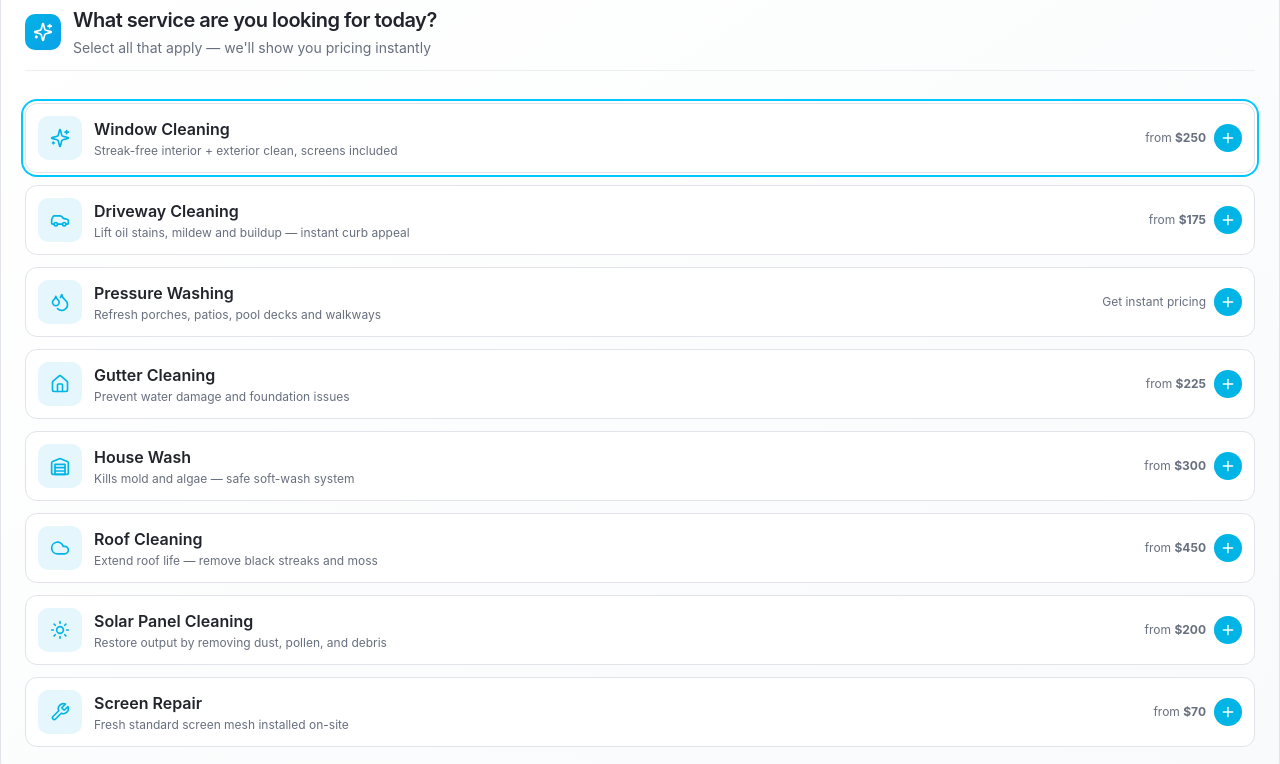
Test: IntentFirstServiceSelector quote hierarchy › keeps keyboard semantics, preserves prior selections, and focuses the newest service
Later steps or results of the test are not shown.
Click the button with aria-label "Add Window Cleaning". click: (60, 138)
box: top-left (25, 103), bottom-right (1255, 173)
(page scrolled)
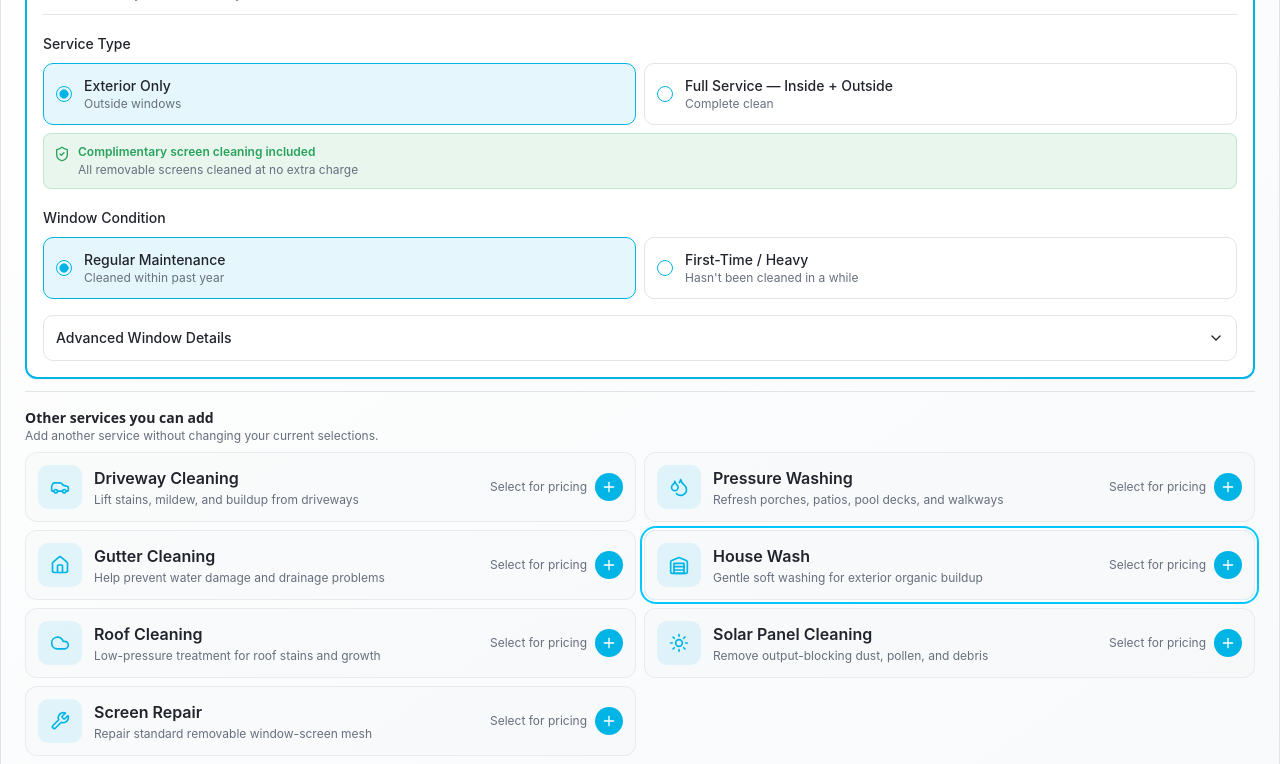
Click the button with aria-label "Add House Wash". click: (679, 565)
box: top-left (644, 530), bottom-right (1255, 600)
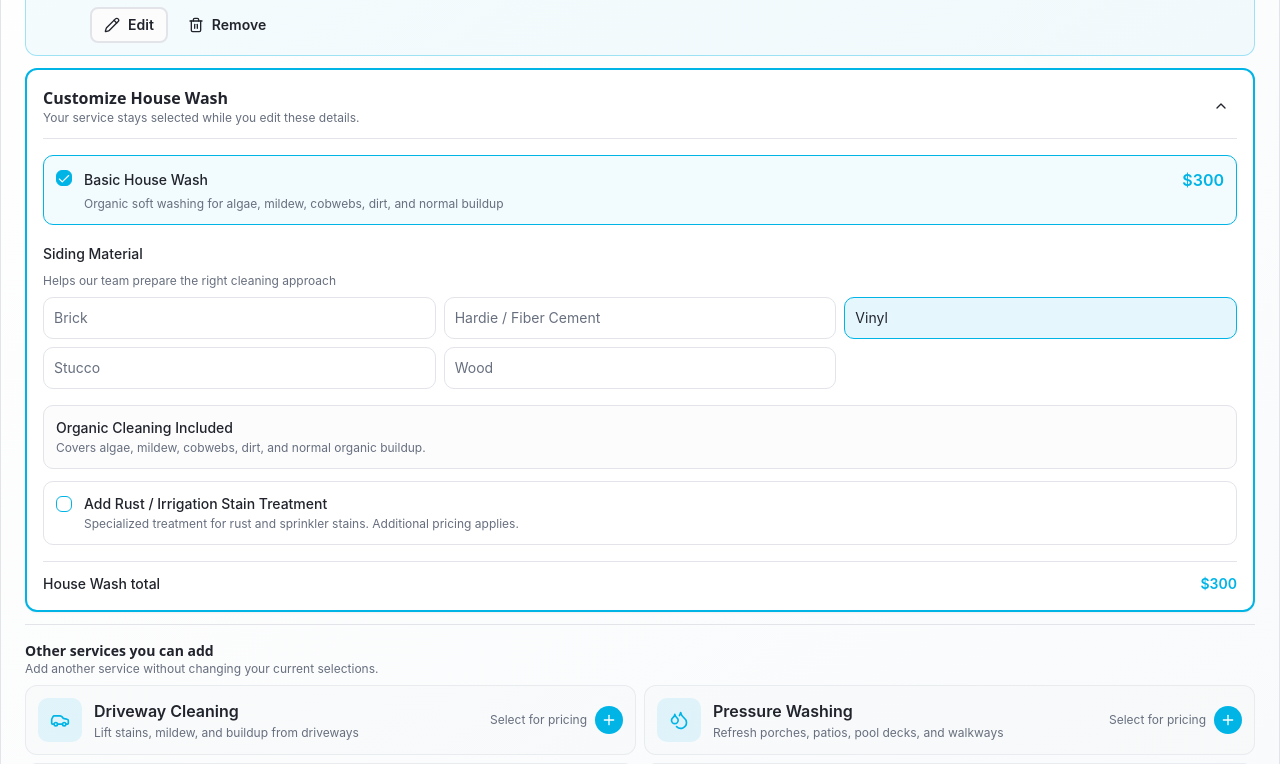
Expected: the button with aria-label "Edit House Wash" is shown
Expected: the element with test id "service-editor-houseWash" is shown
Click the button with aria-label "Edit House Wash". click: (129, 25)
box: top-left (90, 7), bottom-right (168, 43)
(page scrolled)
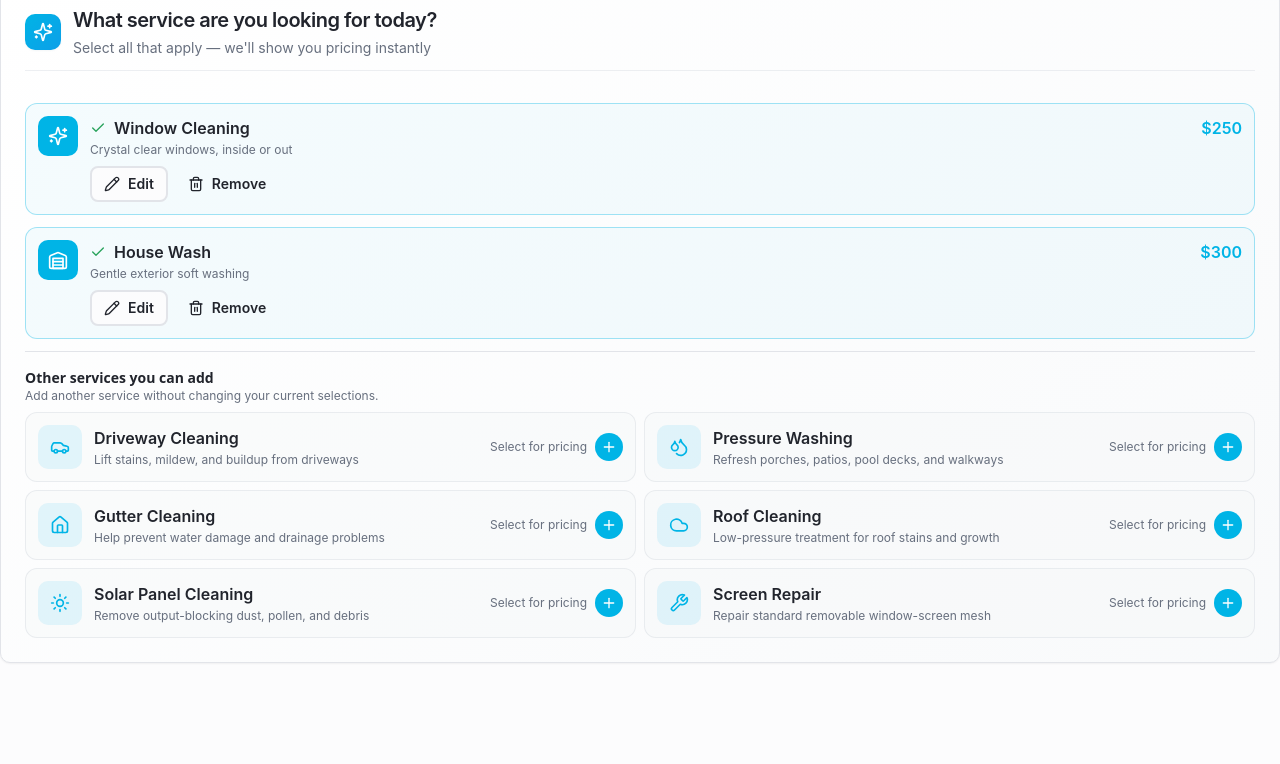
Expected: the element with test id "service-editor-houseWash" is gone
